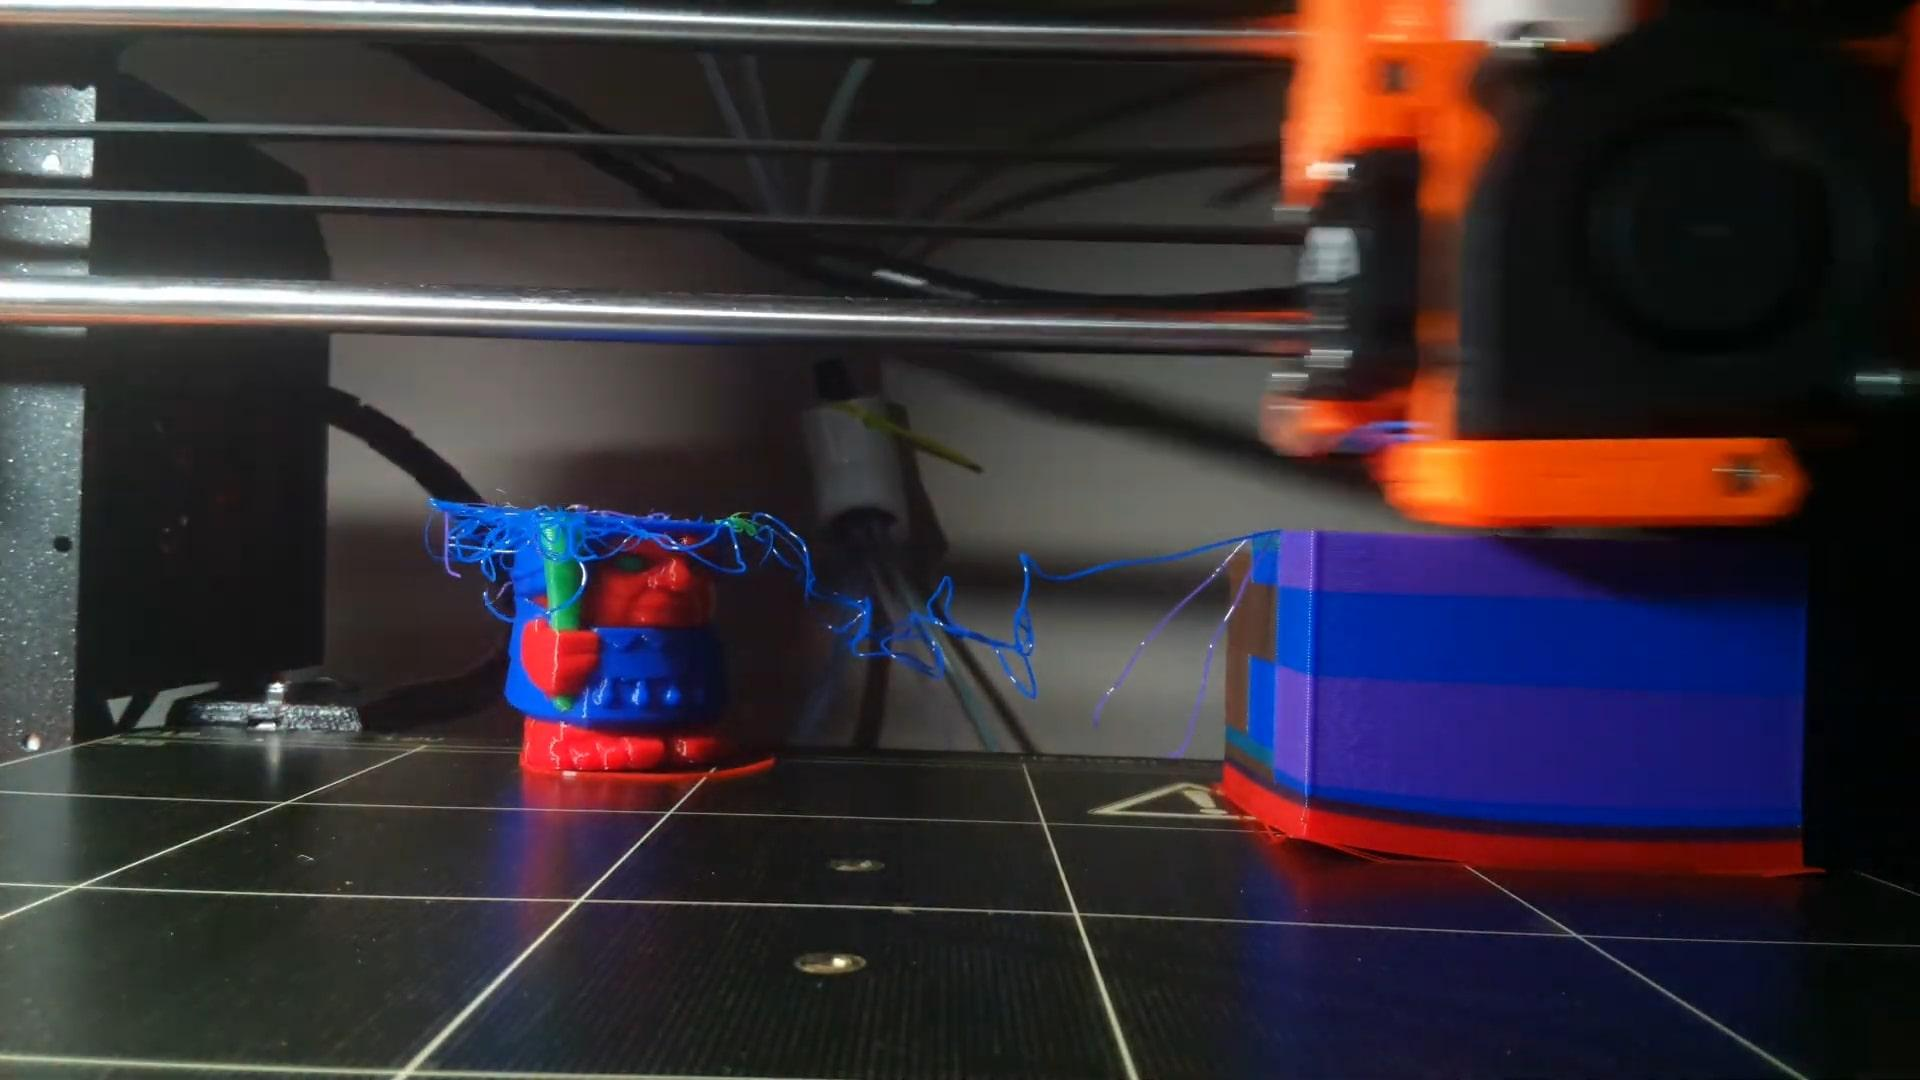Printing-Artifact: (418, 454, 1059, 696)
